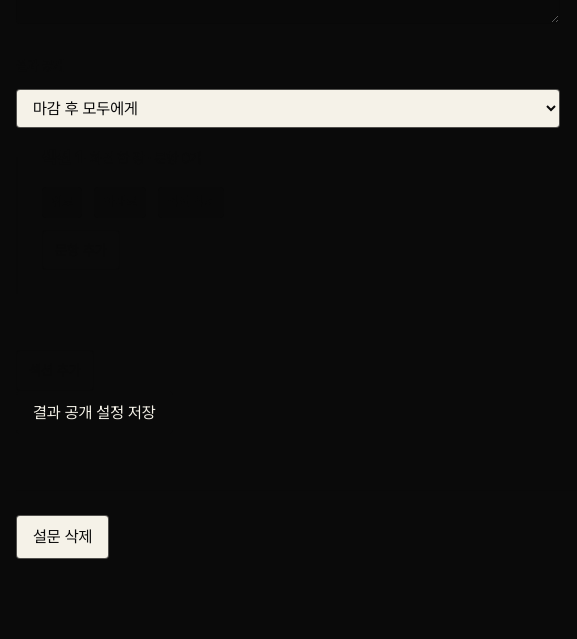
SurveyDetail — 예약 마감과 삭제 › 확인 화면에서 취소하면 아무 일도 없다
The image size is (577, 639).
(page scrolled)
Click the button "설문 삭제" at (63, 537), box [16, 515, 109, 559]
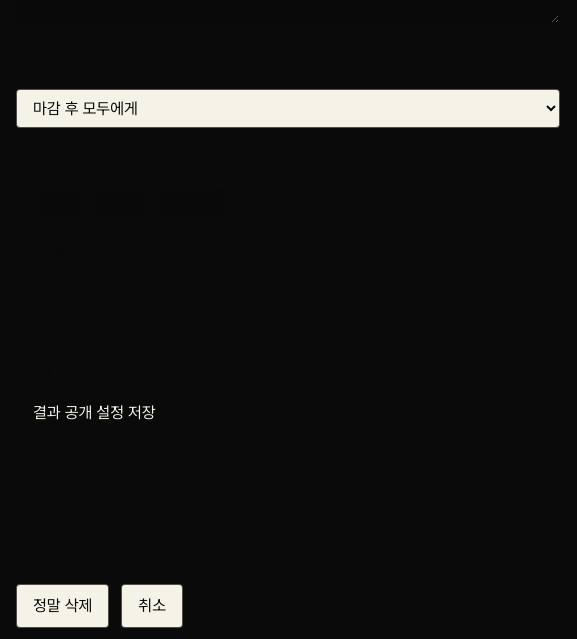
Click the button "취소" at (152, 606), box [121, 584, 183, 628]
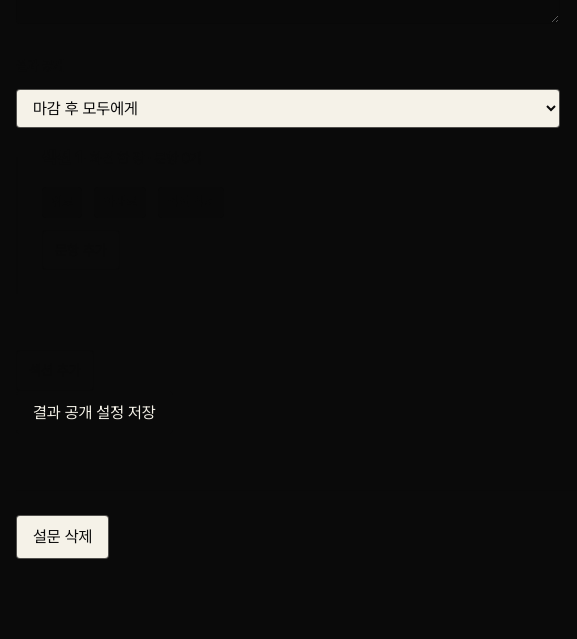
Result: the button "설문 삭제" is shown at [16, 515, 109, 559]
